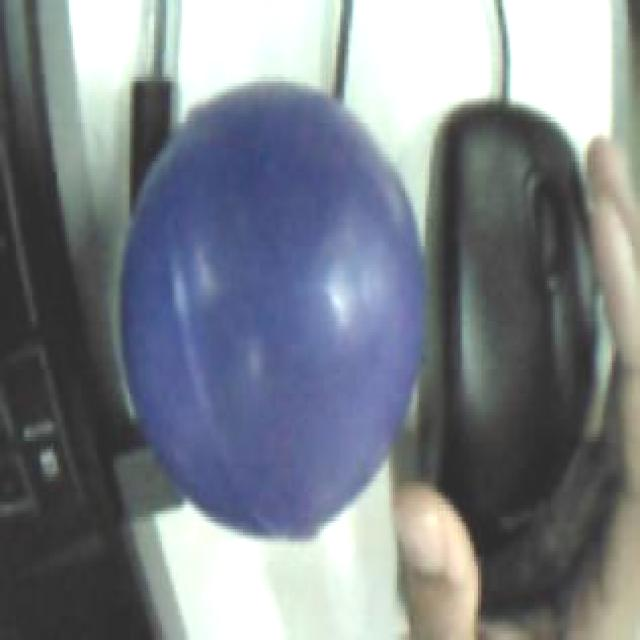BallPurple: (118, 80, 424, 546)
